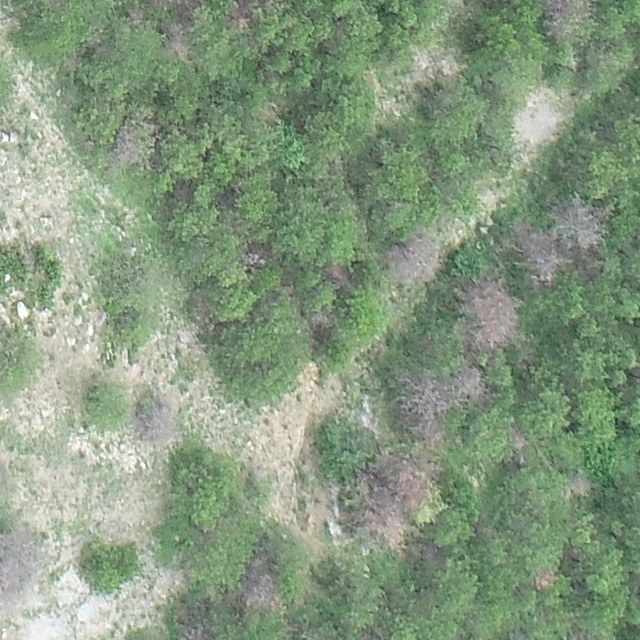unhealthy: (460, 279, 520, 349), (368, 454, 435, 513), (397, 375, 450, 444), (509, 224, 562, 287), (550, 197, 609, 251), (387, 231, 445, 285), (0, 528, 39, 600), (367, 506, 408, 552), (451, 363, 492, 404), (542, 0, 586, 37), (242, 570, 282, 609), (137, 408, 179, 444), (113, 122, 147, 165), (161, 20, 191, 62), (508, 423, 528, 461), (176, 620, 212, 640), (324, 263, 351, 288), (241, 246, 267, 270), (533, 568, 558, 591), (569, 471, 591, 496)
